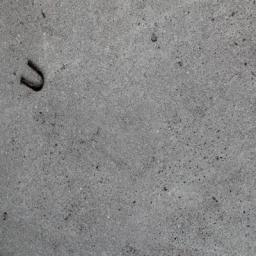FOD: (16, 58, 49, 95)
